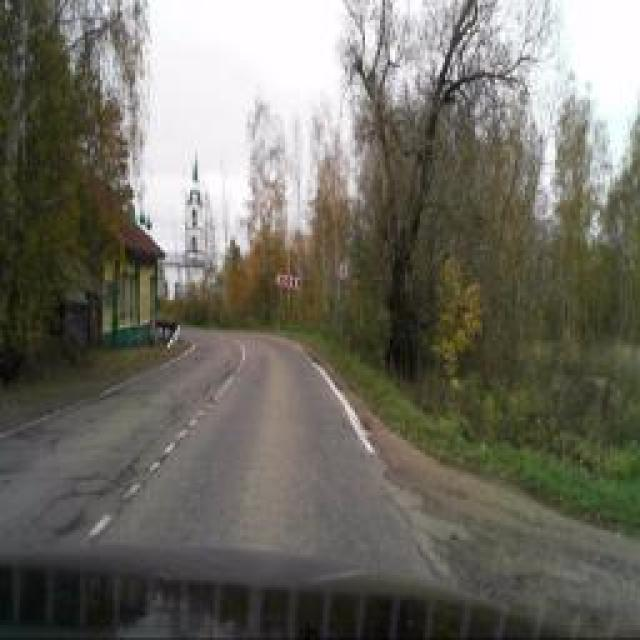sign: (338, 261, 350, 281)
